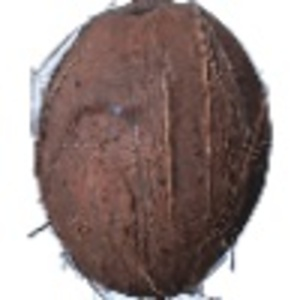coco: (30, 1, 272, 300)
